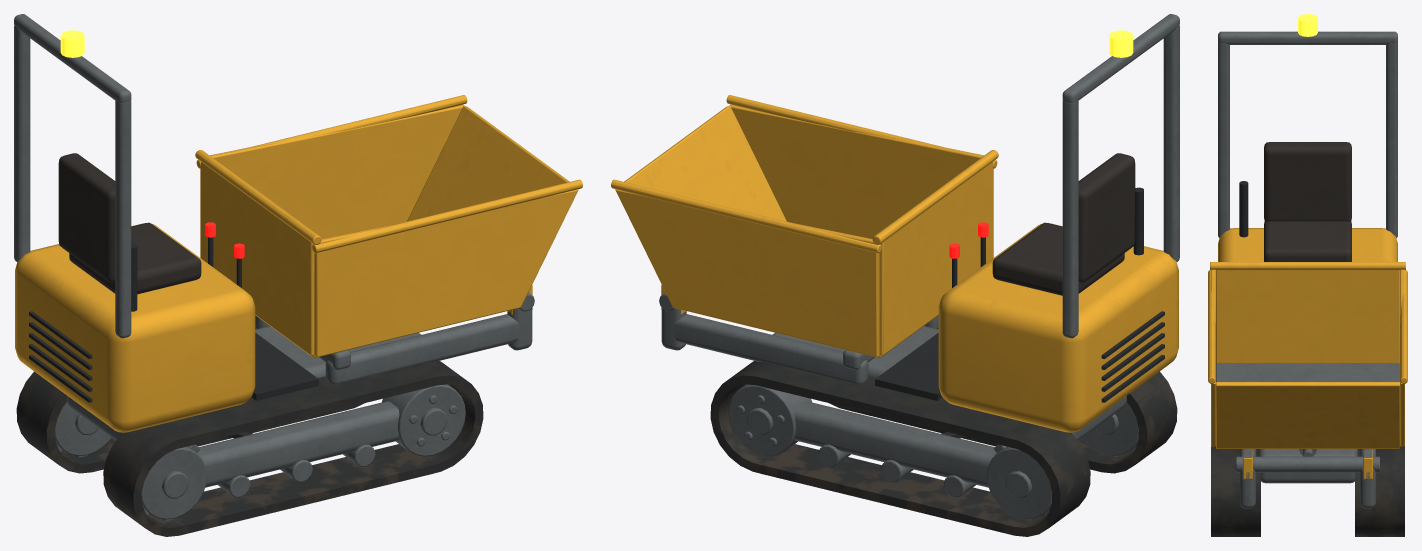
Rendered from dumper_used.glb.
3 renders of one model, left to right at view 1: azimuth 30°, elevation 25°; view 2: azimuth 150°, elevation 25°; view 3: azimuth 270°, elevation 25°, orthographic. The views are drawn at different scales.
Parts seen in each view (by area): view 1: Skip, EngineCover, TrackBand, Chassis, RollBar, Seat, BodyDetails, TrackWheelR1, TrackWheelR0, TrackWheelL0; view 2: Skip, EngineCover, TrackBand, Chassis, RollBar, Seat, BodyDetails, TrackWheelL1, TrackWheelL0, TrackWheelR0; view 3: Skip, Seat, RollBar, TrackBand, Chassis, EngineCover, BodyDetails, Beacon.
Part boxes in pixels (x1=…): Skip: x1=195, y1=95, x2=582, y2=357; EngineCover: x1=15, y1=223, x2=255, y2=432; TrackBand: x1=16, y1=328, x2=483, y2=536; Chassis: x1=67, y1=292, x2=534, y2=497; RollBar: x1=14, y1=14, x2=131, y2=338; Seat: x1=58, y1=153, x2=201, y2=294; BodyDetails: x1=29, y1=244, x2=318, y2=402; TrackWheelR1: x1=381, y1=384, x2=465, y2=456; TrackWheelR0: x1=141, y1=444, x2=207, y2=520; TrackWheelL0: x1=55, y1=402, x2=111, y2=457; Skip: x1=611, y1=95, x2=998, y2=357; EngineCover: x1=938, y1=223, x2=1178, y2=432; TrackBand: x1=710, y1=328, x2=1177, y2=536; Chassis: x1=659, y1=292, x2=1126, y2=497; RollBar: x1=1062, y1=14, x2=1179, y2=338; Seat: x1=992, y1=153, x2=1135, y2=295; BodyDetails: x1=875, y1=187, x2=1164, y2=402; TrackWheelL1: x1=728, y1=384, x2=812, y2=456; TrackWheelL0: x1=986, y1=444, x2=1052, y2=520; TrackWheelR0: x1=1082, y1=402, x2=1138, y2=457; Skip: x1=1208, y1=262, x2=1407, y2=479; Seat: x1=1264, y1=142, x2=1351, y2=261; RollBar: x1=1218, y1=31, x2=1397, y2=237; TrackBand: x1=1211, y1=446, x2=1404, y2=536; Chassis: x1=1236, y1=449, x2=1379, y2=508; EngineCover: x1=1218, y1=228, x2=1397, y2=261; BodyDetails: x1=1239, y1=181, x2=1248, y2=237; Beacon: x1=1298, y1=14, x2=1317, y2=36.
Size of the model in its own units: 2.22 by 2.15 by 0.9983.
11 materials, 9 textured.
